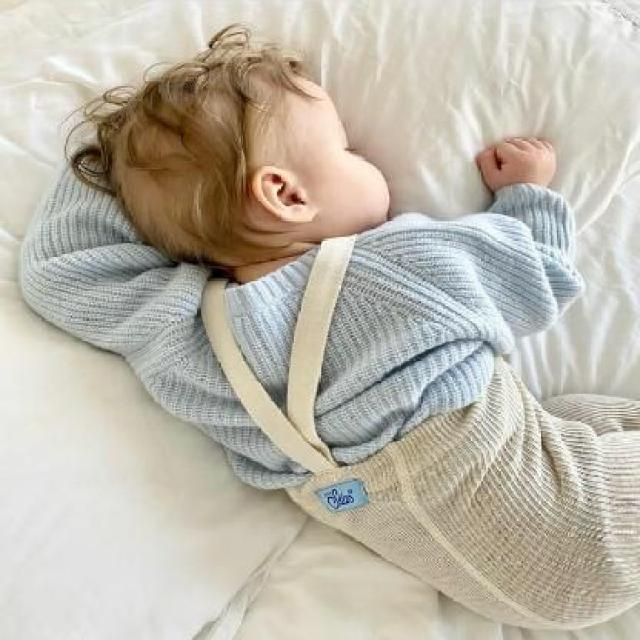baby: (16, 54, 640, 546)
